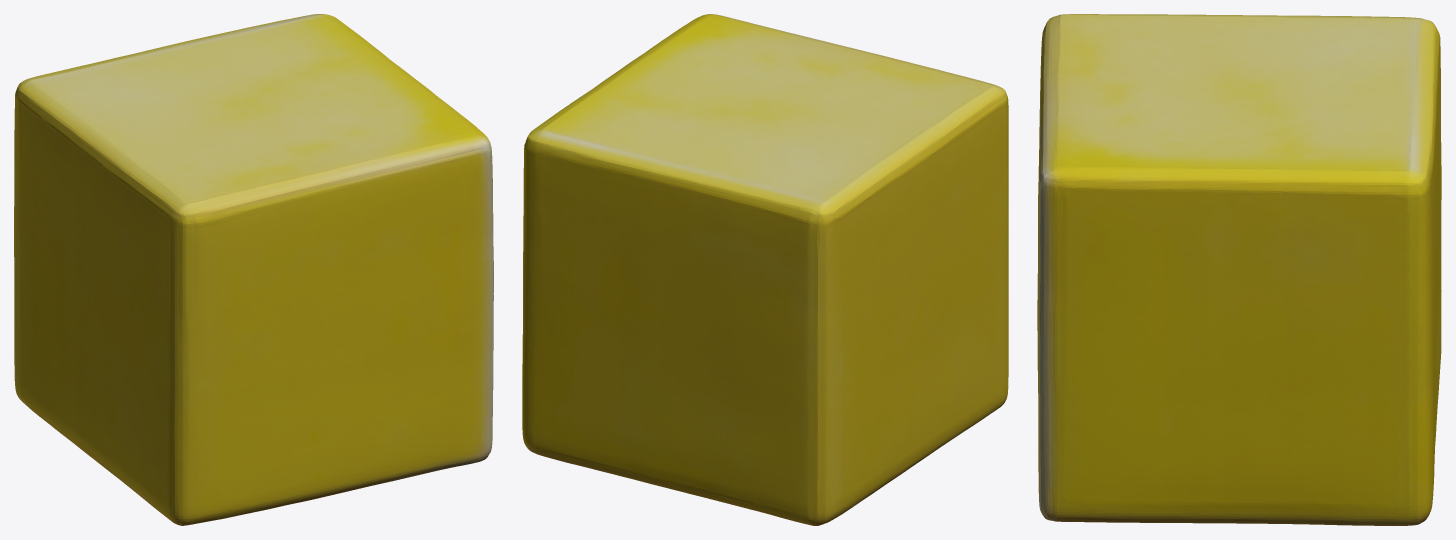
File: obj1_scaled.glb
The picture shows the model from 3 angles, left to right: view 1: azimuth 30°, elevation 25°; view 2: azimuth 150°, elevation 25°; view 3: azimuth 270°, elevation 25°; orthographic projection. The views are drawn at different scales.
Parts seen in each view (by area): view 1: world; view 2: world; view 3: world.
Boxes of the visible parts, x1=… form: world: x1=14, y1=14, x2=493, y2=525; world: x1=522, y1=14, x2=1008, y2=525; world: x1=1037, y1=14, x2=1441, y2=525.
Bounding box in the file's own units: 0.0207 × 0.0197 × 0.0204.
